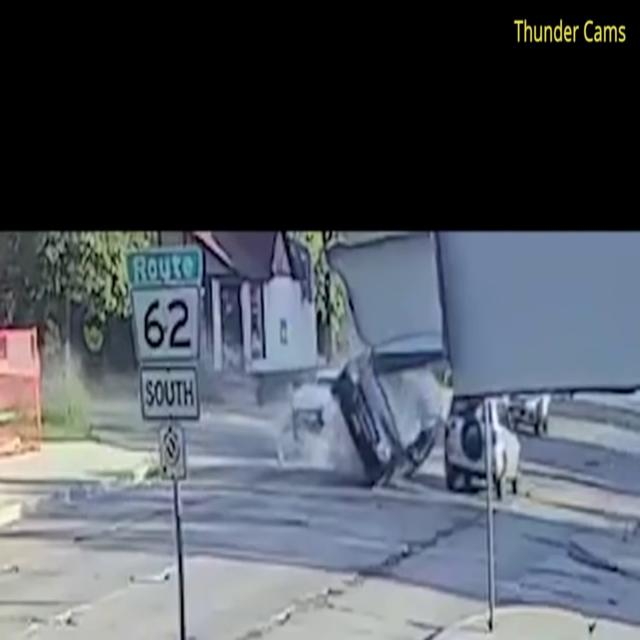accident: (310, 254, 447, 514)
